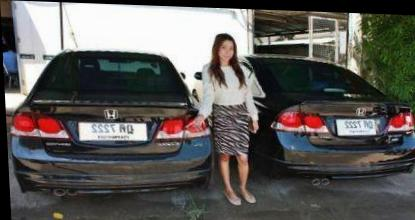License_Plate: (79, 120, 149, 142)
